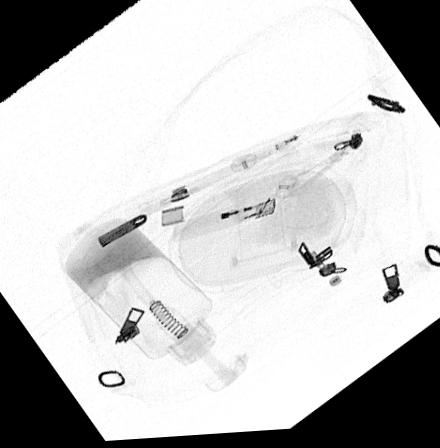Lighter: (174, 200, 277, 245)
